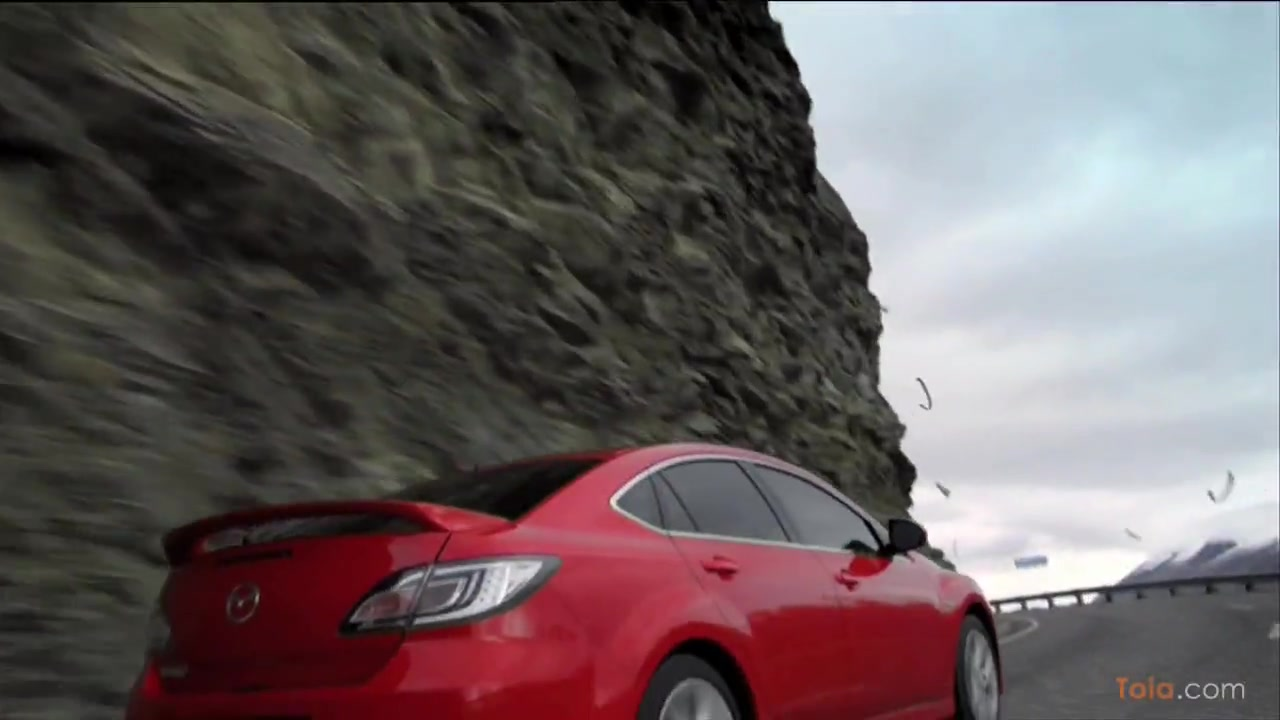car: (136, 440, 1009, 720)
